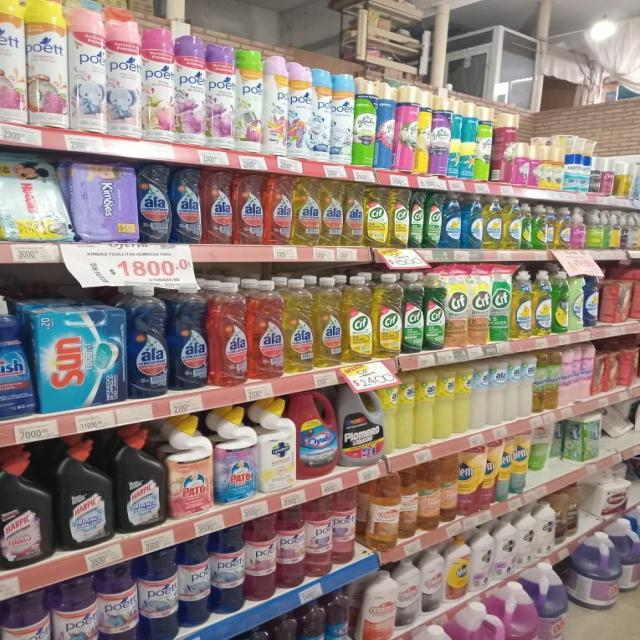ala_conc_amarillo: (285, 277, 314, 374), (315, 276, 343, 368), (294, 178, 320, 246), (321, 180, 343, 246), (344, 182, 364, 246)
ala_conc_azul: (125, 285, 169, 398), (170, 283, 208, 391), (138, 164, 171, 243), (172, 167, 202, 244)
ala_conc_rojo: (210, 280, 248, 387), (249, 279, 283, 380), (203, 170, 234, 245), (234, 172, 264, 245), (265, 174, 293, 246)
ala_crem_amarillo: (415, 368, 434, 444), (435, 368, 453, 440), (397, 372, 414, 448), (454, 364, 470, 433)
ala_crem_blanco: (472, 362, 488, 429), (488, 360, 504, 426), (506, 357, 519, 420), (520, 356, 532, 417)
cif_conc_bot_amarilla: (343, 274, 373, 363), (374, 272, 402, 357), (365, 185, 388, 248), (389, 189, 409, 248)
cif_conc_botella_verde: (403, 272, 424, 354), (425, 272, 445, 351), (425, 192, 441, 248), (409, 191, 424, 248)
cif_conc_sachet_amarillo: (446, 267, 468, 348), (468, 265, 489, 346)
cif_conc_sachet_verde: (490, 265, 511, 342)
magistral_con_amarillo: (512, 270, 532, 339), (532, 269, 552, 336), (484, 196, 502, 250), (503, 196, 521, 250), (556, 207, 572, 250), (521, 202, 532, 250), (546, 205, 555, 250)
magistral_con_azul: (442, 194, 462, 248), (463, 195, 482, 249)
